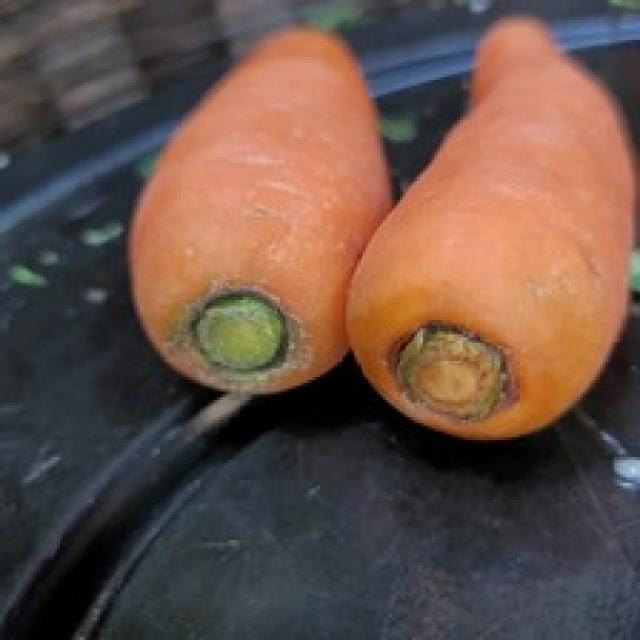carrot: (346, 7, 637, 430), (122, 24, 392, 395)
